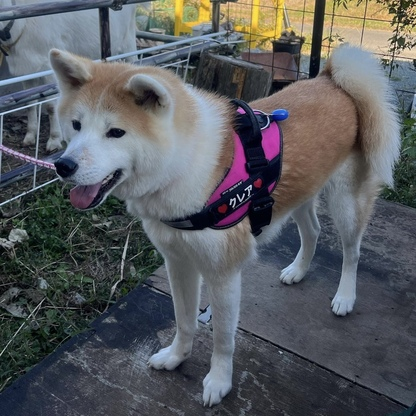akita: (32, 25, 404, 409)
